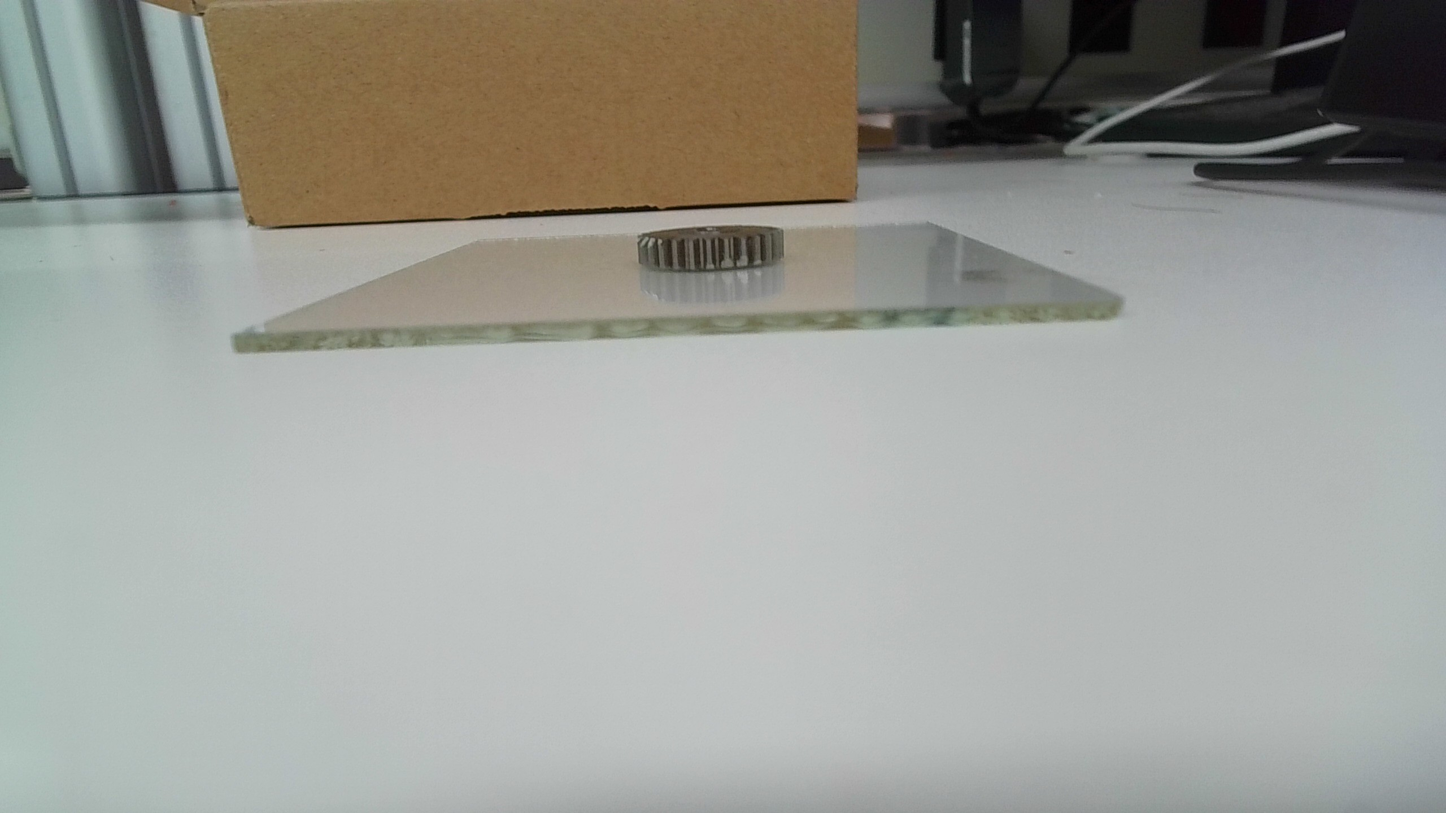gear: (634, 224, 789, 275)
